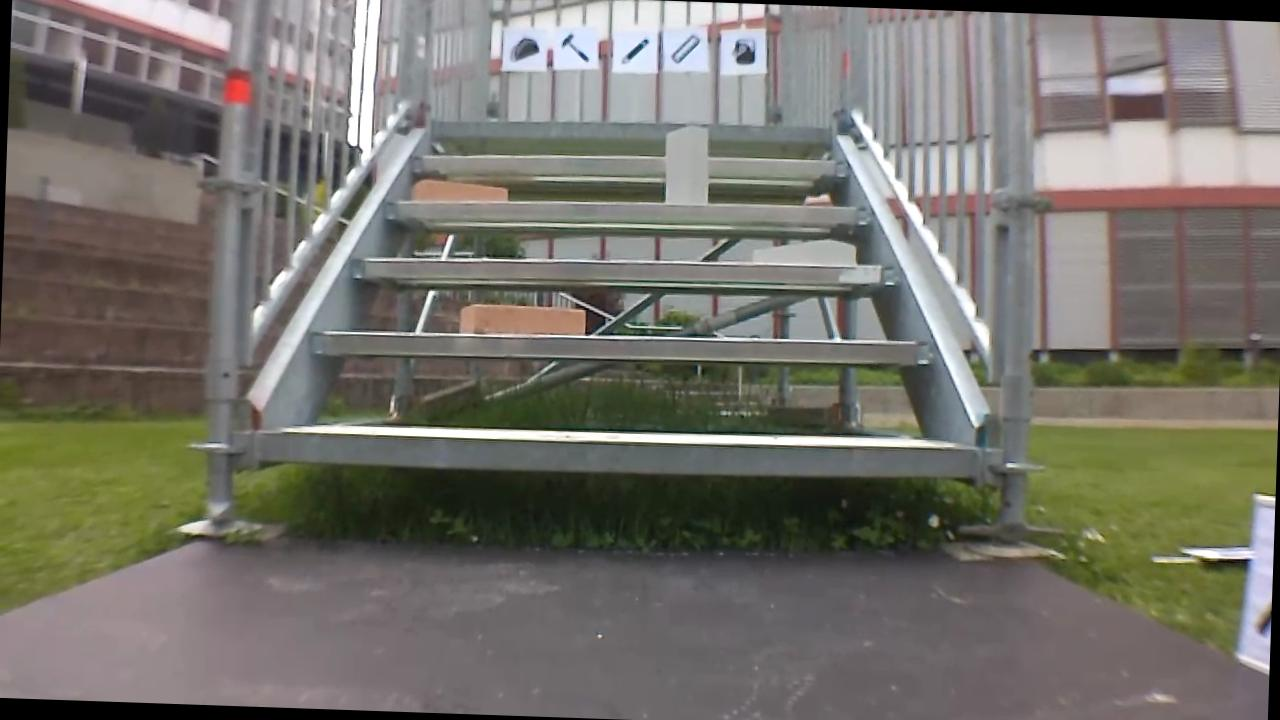brick: (459, 303, 585, 337), (664, 125, 708, 203), (753, 237, 855, 266), (412, 178, 506, 202)
bucket: (725, 32, 758, 68)
edge: (259, 422, 977, 485), (314, 318, 934, 373), (351, 246, 901, 295), (384, 190, 868, 231), (410, 146, 849, 184), (431, 114, 836, 146)
hammer: (555, 27, 594, 63)
pencil: (617, 30, 650, 68)
ruler: (667, 29, 701, 65)
steps: (251, 104, 992, 493)
taco: (500, 30, 541, 65)
